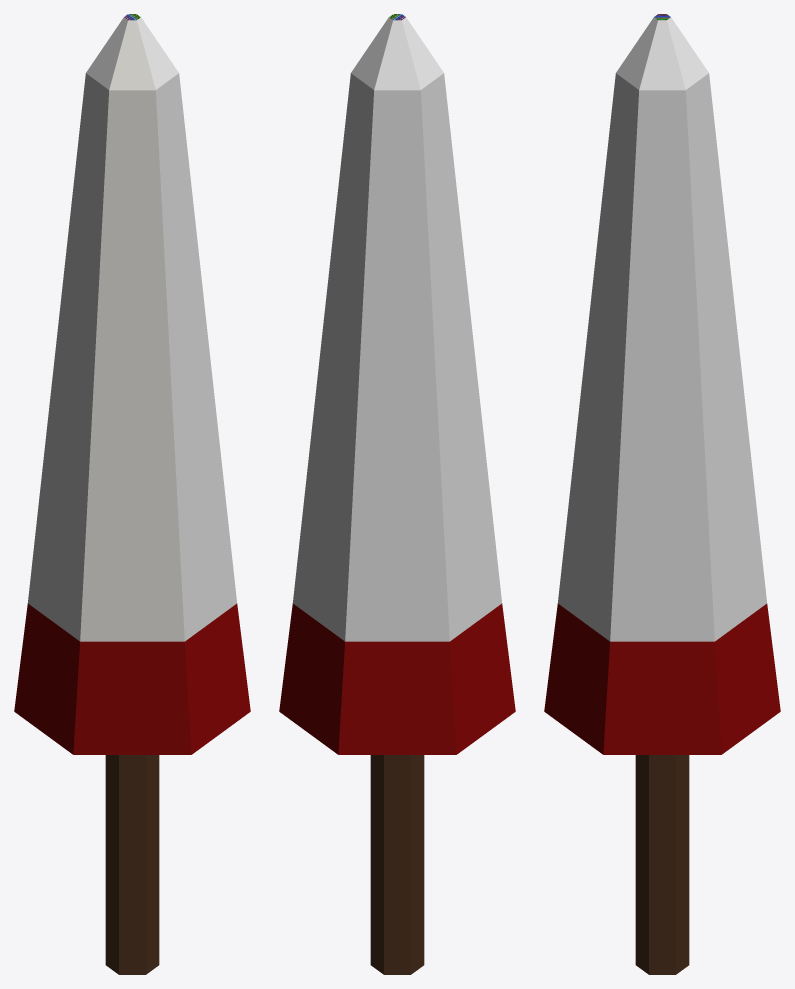
The model's file is Parasol_2_zloz.fbx.
3 views of the same model, side by side, from view 1: azimuth 30°, elevation 25°; view 2: azimuth 150°, elevation 25°; view 3: azimuth 270°, elevation 25° (orthographic).
Visible parts, largest first — view 1: Cube.002; view 2: Cube.002; view 3: Cube.002.
Part boxes in pixels (left/top/right/bottom): Cube.002: left=14, top=14, right=250, bottom=974; Cube.002: left=279, top=14, right=515, bottom=974; Cube.002: left=544, top=14, right=780, bottom=974.
Bounding box in the file's own units: 79.48 × 351 × 68.83.
